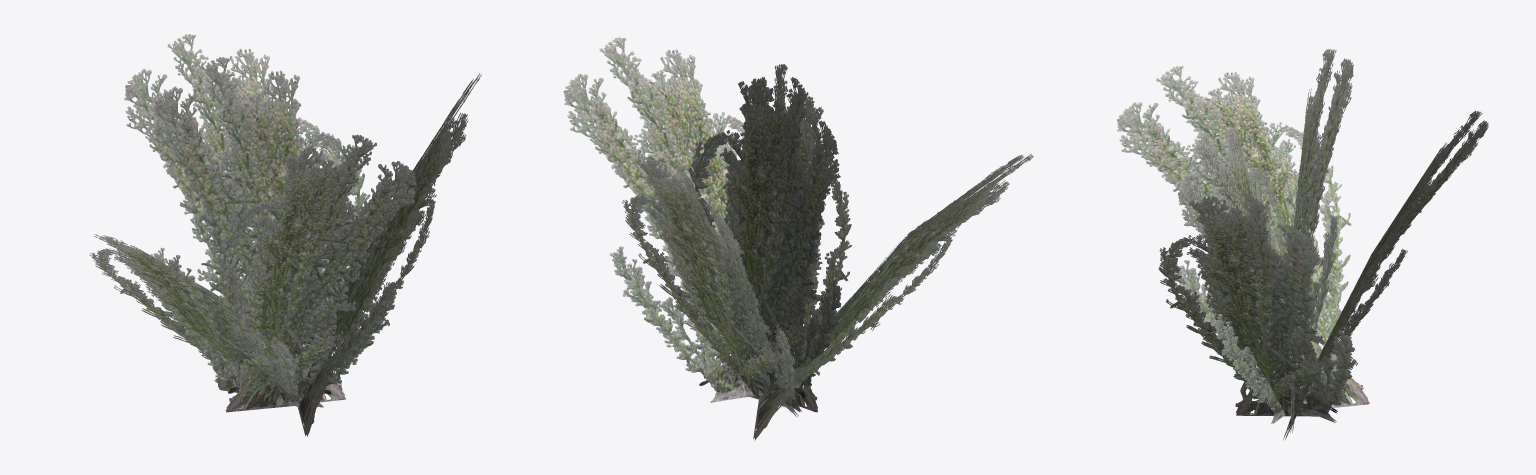
Rendered from grassweed07.fbx.
The picture shows the model from 3 angles, left to right: view 1: azimuth 30°, elevation 25°; view 2: azimuth 150°, elevation 25°; view 3: azimuth 270°, elevation 25°; orthographic projection. The views are drawn at different scales.
Visible parts, largest first — view 1: grassweed07; view 2: grassweed07; view 3: grassweed07.
Boxes of the visible parts, box(x1,y1,x2,y2) form: grassweed07: box(89, 34, 481, 436); grassweed07: box(563, 37, 1033, 440); grassweed07: box(1117, 49, 1488, 439).
Bounding box in the file's own units: 118 × 85.15 × 94.61.
